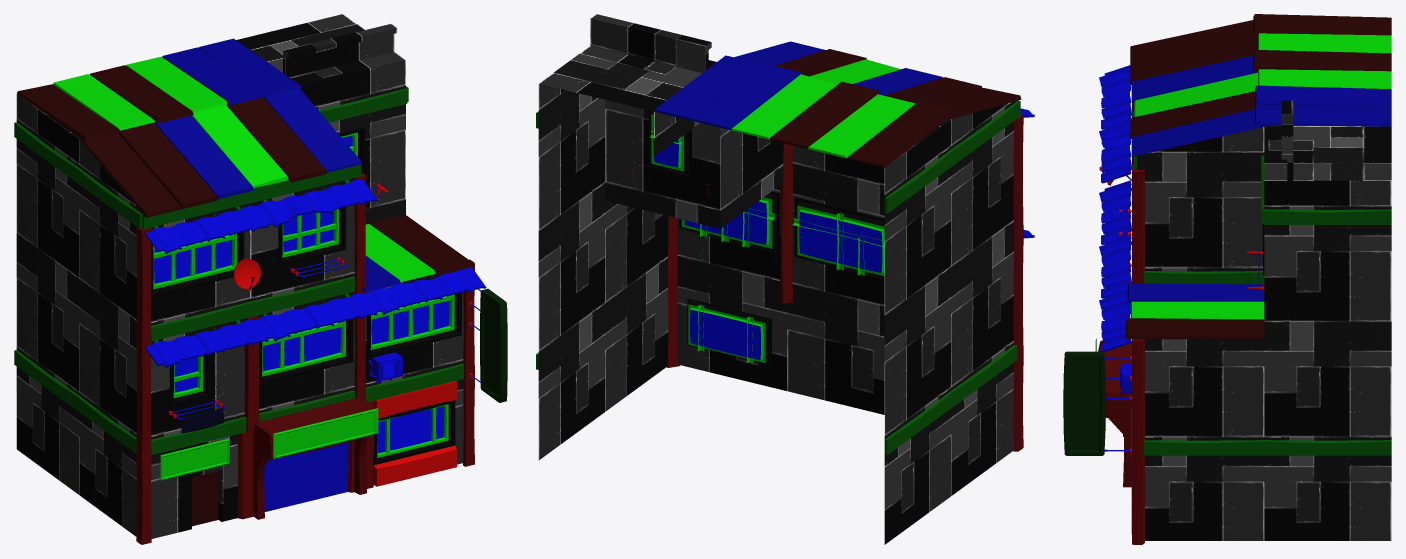
The model's file is SM_HumanBuilding08.FBX.
The picture shows the model from 3 angles, left to right: view 1: azimuth 30°, elevation 25°; view 2: azimuth 150°, elevation 25°; view 3: azimuth 270°, elevation 25°; orthographic projection. The views are drawn at different scales.
Parts seen in each view (by area): view 1: PillarVertical331; view 2: PillarVertical331; view 3: PillarVertical331.
Part boxes in pixels (left/top/right/bottom): PillarVertical331: left=14, top=14, right=507, bottom=544; PillarVertical331: left=536, top=14, right=1034, bottom=544; PillarVertical331: left=1063, top=14, right=1391, bottom=544.
Size of the model in its own units: 2458 by 2064 by 2695.
